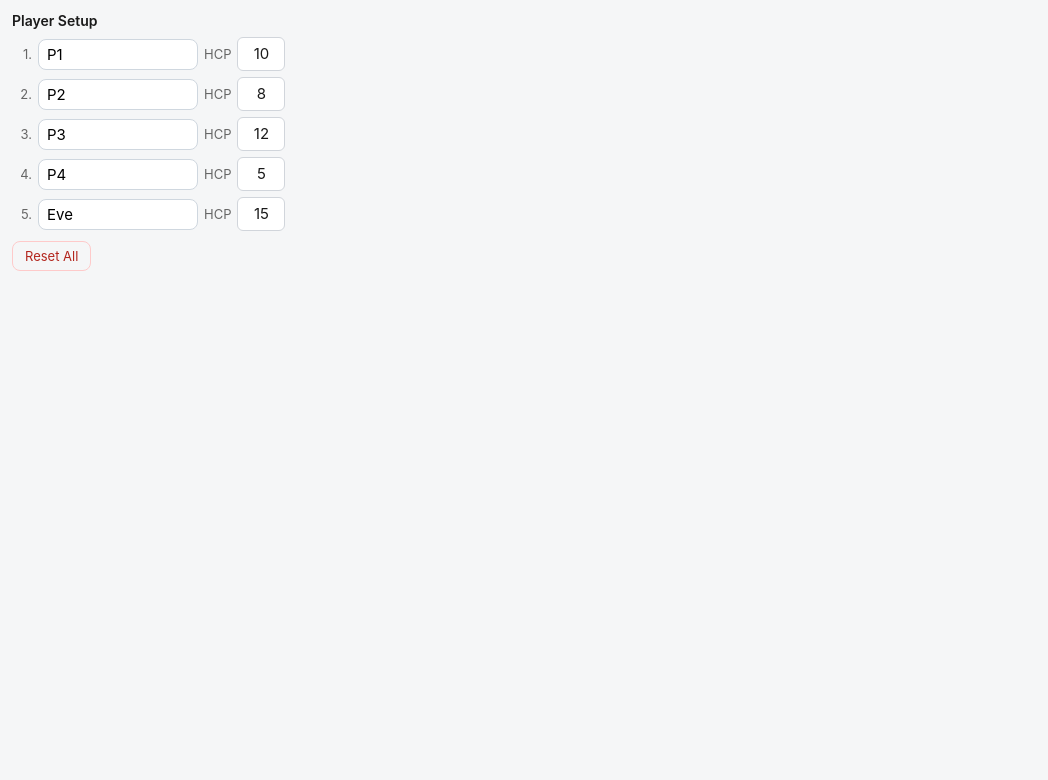
Test: PlayerSetupPanel — Done button smart-advance › on the LAST active player, Done just closes — nothing left to advance to
Click the text "15": (262, 214) [238, 197, 286, 231]
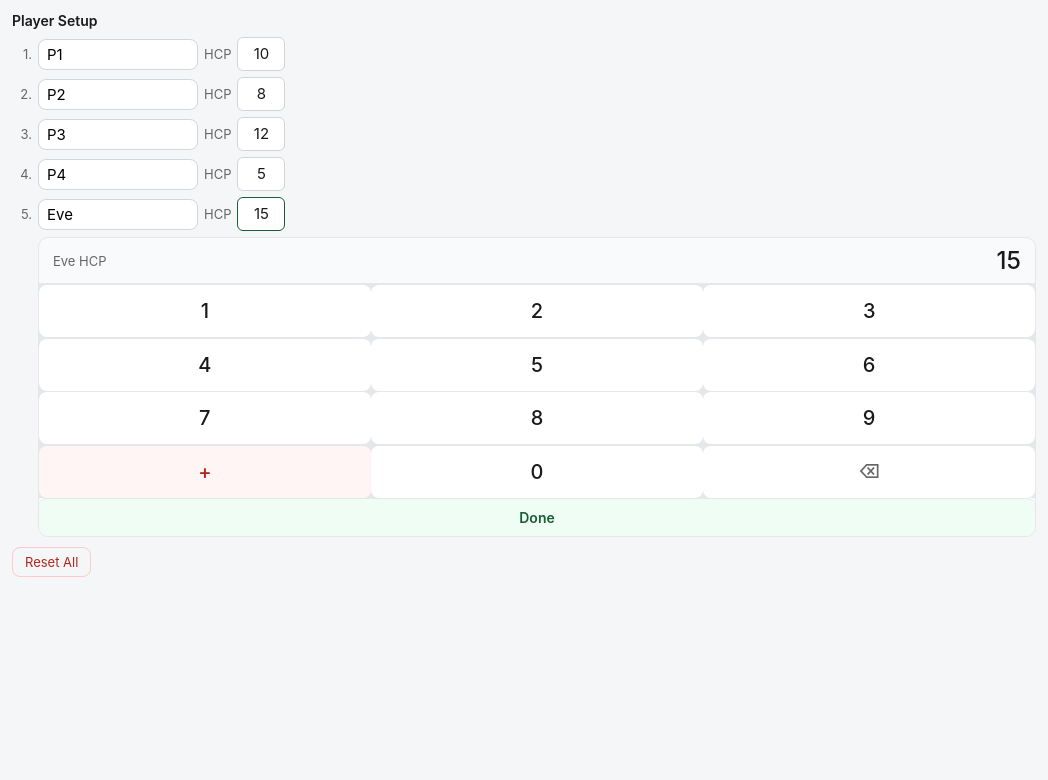
Expected: the text "Eve HCP" is shown, [53, 252, 107, 268]
Press the mouse on the button "Done": (537, 516) [39, 498, 1035, 536]
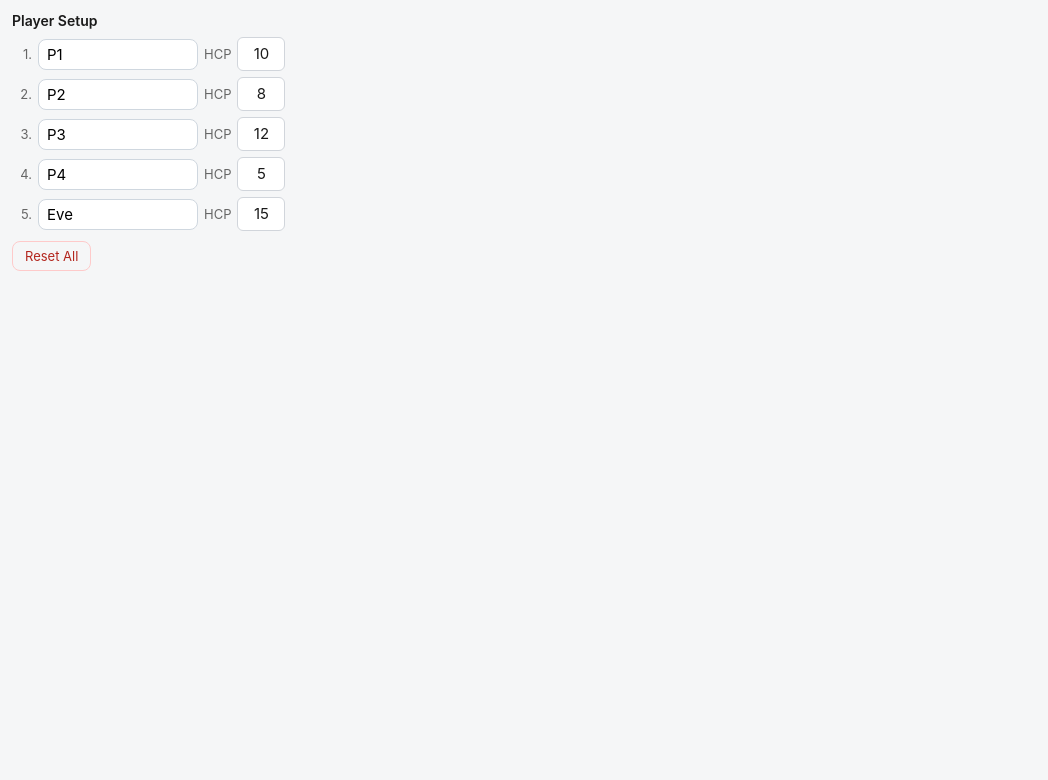
Expected: the text "Eve HCP" is gone
